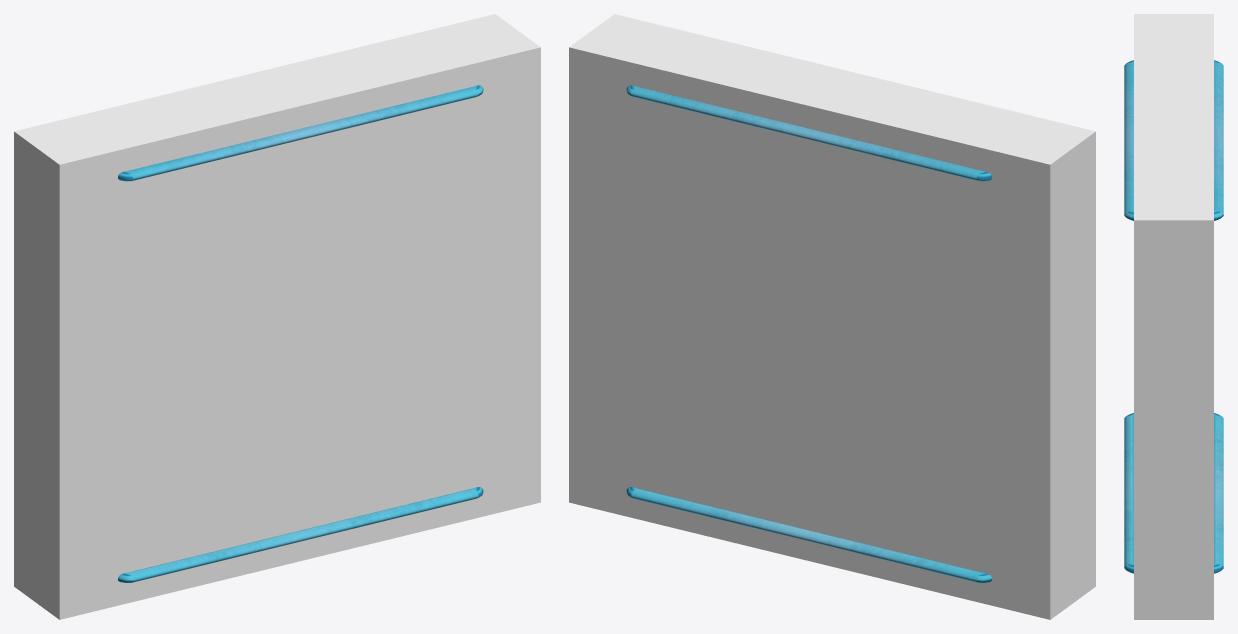
Rendered from CamoWallSolid.glb.
The picture shows the model from 3 angles, left to right: view 1: azimuth 30°, elevation 25°; view 2: azimuth 150°, elevation 25°; view 3: azimuth 270°, elevation 25°; orthographic projection. The views are drawn at different scales.
Visible parts, largest first — view 1: SolidWallHologramModel, MilitaryWall; view 2: SolidWallHologramModel, MilitaryWall; view 3: SolidWallHologramModel, MilitaryWall.
Part boxes in pixels (<box>): SolidWallHologramModel: <box>14,14,540,619</box>; MilitaryWall: <box>118,85,483,582</box>; SolidWallHologramModel: <box>569,14,1095,619</box>; MilitaryWall: <box>626,85,991,582</box>; SolidWallHologramModel: <box>1134,14,1213,619</box>; MilitaryWall: <box>1124,60,1223,573</box>.
Size of what is drawn, in the model's own units: 1.16 by 1.05 by 0.2359.
3 materials, 2 textured.
